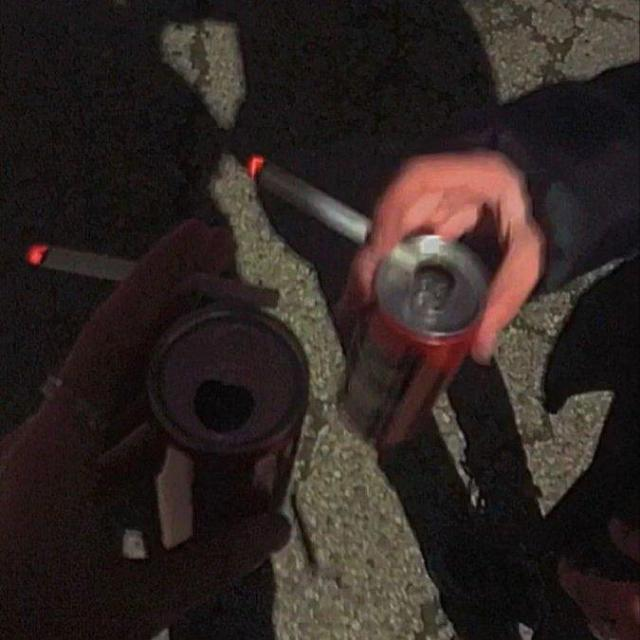rokok: (24, 232, 282, 312), (250, 140, 378, 240)
